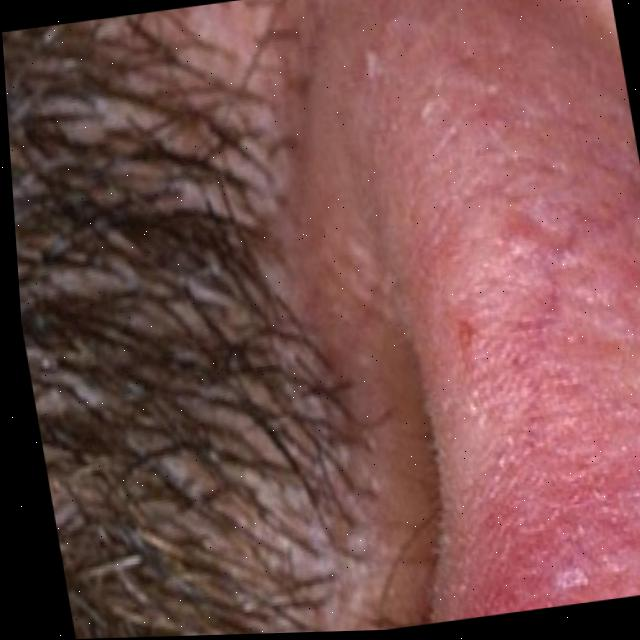Rosacea: (384, 75, 640, 619)
